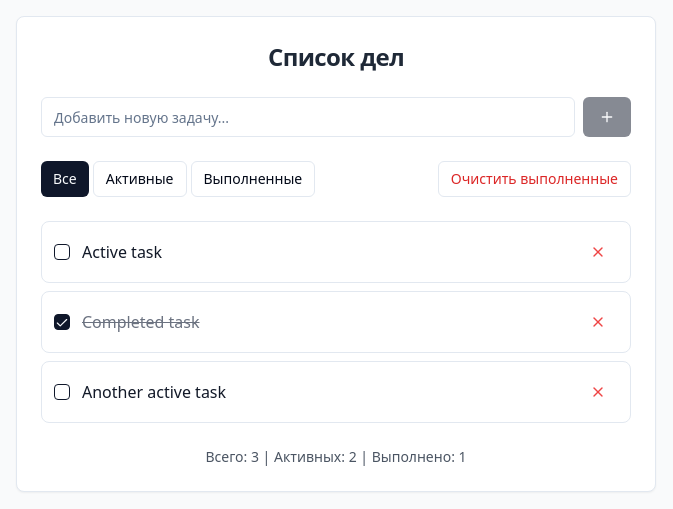
Test case: TodoApp › shows all todos when all filter is selected
Click the button "Активные".
click(140, 179)  # box [93, 161, 186, 197]
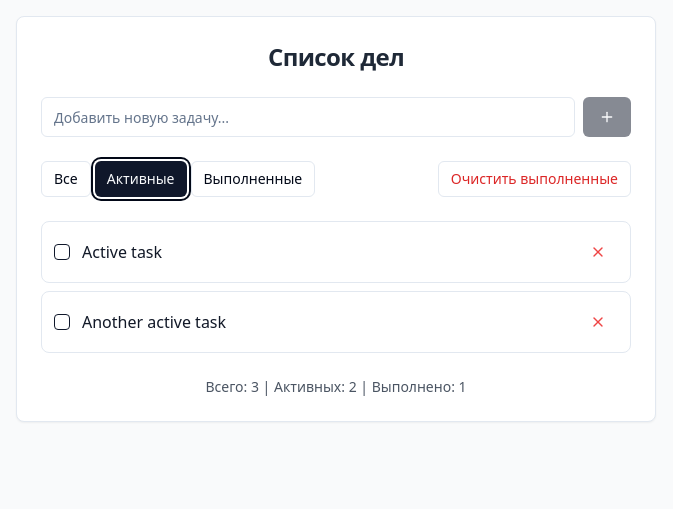
Click the button "Все".
click(66, 179)  # box [41, 161, 91, 197]
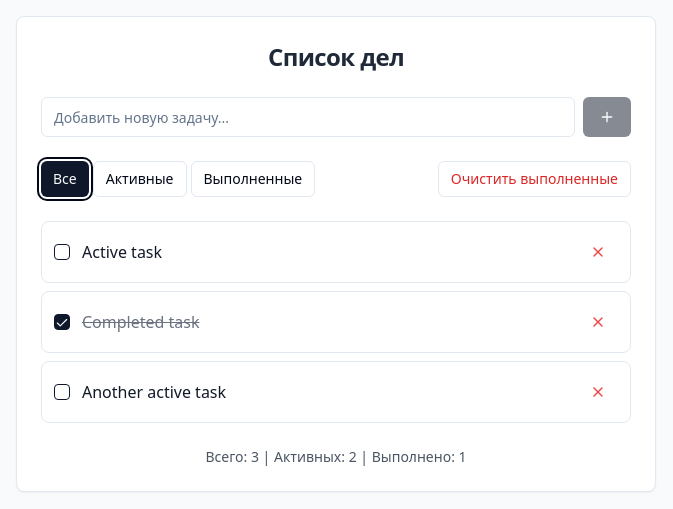
Expected: the text "Active task" is shown, [82, 241, 162, 263]
Expected: the text "Completed task" is shown, [82, 311, 200, 333]
